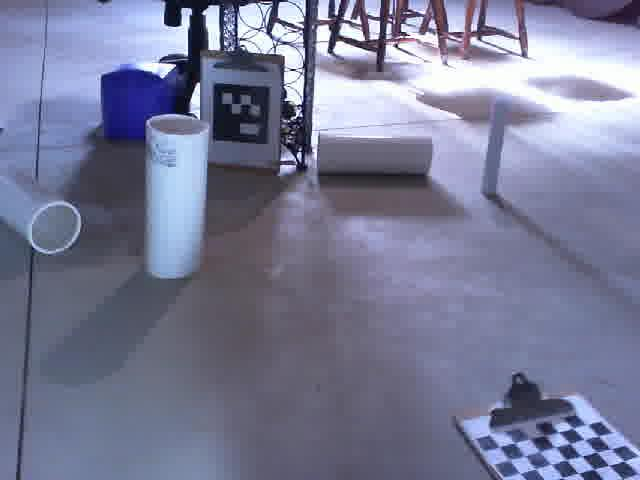coral: (146, 115, 207, 281), (0, 156, 83, 255), (317, 130, 433, 177)
